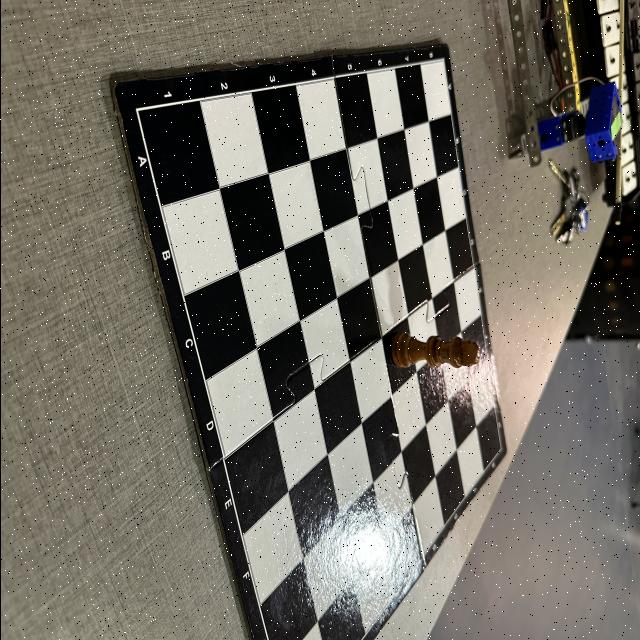Black-King: (390, 332, 479, 368)
